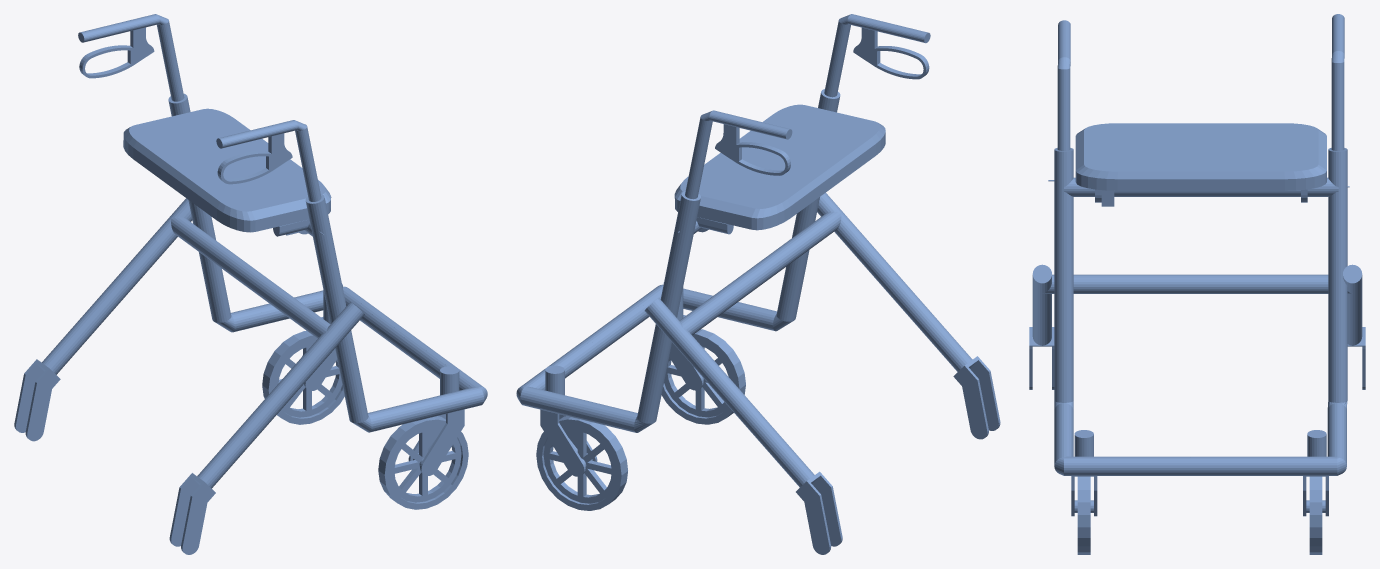
File: walker_frame.dae
3 views of the same model, side by side, from view 1: azimuth 30°, elevation 25°; view 2: azimuth 150°, elevation 25°; view 3: azimuth 270°, elevation 25° (orthographic).
Visible parts, largest first — view 1: Walker_No_Back_Wheel; view 2: Walker_No_Back_Wheel; view 3: Walker_No_Back_Wheel.
Boxes of the visible parts, x1,y1,x2,y2 form: Walker_No_Back_Wheel: [14, 14, 487, 554]; Walker_No_Back_Wheel: [516, 14, 1000, 554]; Walker_No_Back_Wheel: [1029, 14, 1365, 554].
Size of the model in its own units: 0.6327 by 0.572 by 0.8112.
